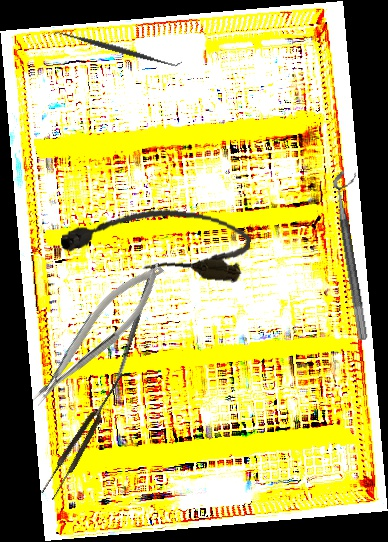Cannula: (58, 195, 254, 285)
Fixation Ring: (330, 168, 383, 341)
Needle Holder: (17, 254, 176, 413)
Spatula Surgical: (52, 24, 183, 74)
Surgical Spoon: (109, 264, 157, 396)
Tissue Forceps: (39, 369, 131, 501)
